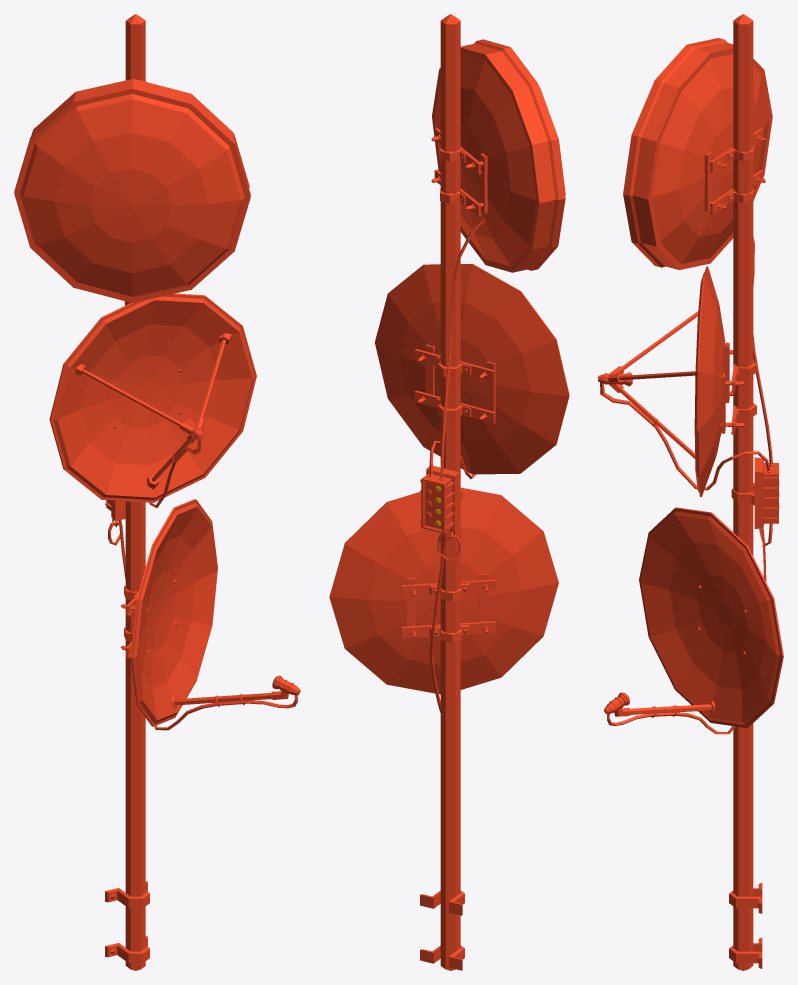
The model's file is SM_Satellite_B_City.fbx.
The picture shows the model from 3 angles, left to right: view 1: azimuth 30°, elevation 25°; view 2: azimuth 150°, elevation 25°; view 3: azimuth 270°, elevation 25°; orthographic projection.
Visible parts, largest first — view 1: SM_Satellite_B_City; view 2: SM_Satellite_B_City; view 3: SM_Satellite_B_City.
Boxes of the visible parts, x1,y1,x2,y2 form: SM_Satellite_B_City: (14, 14, 300, 970); SM_Satellite_B_City: (329, 14, 569, 970); SM_Satellite_B_City: (598, 14, 783, 970).
Bounding box in the file's own units: 1.1 × 4.59 × 0.8083.
